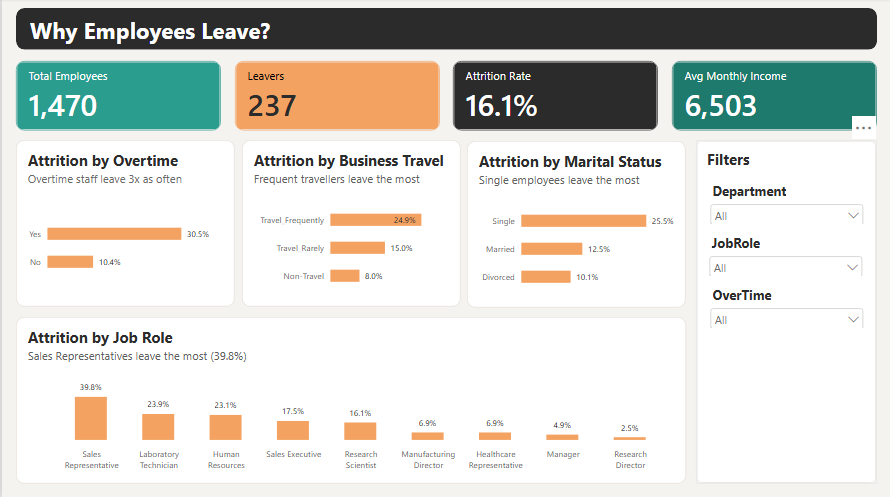

The dashboard page shown, as its layout file describes it:
{"tool":"powerbi","page":{"name":"Drivers","canvas":[1280,720],"ordinal":1},"visuals":[{"type":"shape","box":[20,15,1240,60],"z":0},{"type":"cardVisual","fields":{"Data":["Employees.Total Employees Display"]},"box":[20.2,90,295,100],"z":1000},{"type":"cardVisual","fields":{"Data":["Employees.Leavers"]},"box":[335,90,295,100],"z":2000},{"type":"cardVisual","fields":{"Data":["Employees.Avg Monthly Income"]},"box":[965,90,295,100],"z":3000},{"type":"cardVisual","fields":{"Data":["Employees.Attrition Rate"]},"box":[650,90,295,100],"z":4000},{"type":"shape","box":[1000,205,260,495],"z":5000},{"type":"slicer","fields":{"Values":["Employees.Department"]},"box":[1015,265,230,60],"z":6000},{"type":"slicer","fields":{"Values":["Employees.JobRole"]},"box":[1014.1,340,230,60],"z":7000},{"type":"slicer","fields":{"Values":["Employees.OverTime"]},"box":[1015.9,415,230,60],"z":8000},{"type":"clusteredBarChart","title":"Attrition by Overtime","fields":{"Category":["Employees.OverTime"],"Y":["Employees.Attrition Rate"]},"box":[20,205,315,240],"z":9000},{"type":"clusteredBarChart","title":"Attrition by Business Travel","fields":{"Category":["Employees.BusinessTravel"],"Y":["Employees.Attrition Rate"]},"box":[345,205,315,240],"z":10000},{"type":"clusteredBarChart","title":"Attrition by Marital Status","fields":{"Category":["Employees.MaritalStatus"],"Y":["Employees.Attrition Rate"]},"box":[670,206,315,240],"z":11000},{"type":"clusteredColumnChart","title":"Attrition by Job Role","fields":{"Category":["Employees.JobRole"],"Y":["Employees.Attrition Rate"]},"box":[20,460,965,240],"z":12000}]}

Visuals, with their boxes in screenshot pixels (x1, y1, x2, y2), scaled from the page's 1280x720 canvas onto the 890x497 screenshot:
shape: [x1=14, y1=10, x2=876, y2=52]
cardVisual - Employees.Total Employees Display: [x1=14, y1=62, x2=219, y2=131]
cardVisual - Employees.Leavers: [x1=233, y1=62, x2=438, y2=131]
cardVisual - Employees.Avg Monthly Income: [x1=671, y1=62, x2=876, y2=131]
cardVisual - Employees.Attrition Rate: [x1=452, y1=62, x2=657, y2=131]
shape: [x1=695, y1=142, x2=876, y2=483]
slicer - Employees.Department: [x1=706, y1=183, x2=866, y2=224]
slicer - Employees.JobRole: [x1=705, y1=235, x2=865, y2=276]
slicer - Employees.OverTime: [x1=706, y1=286, x2=866, y2=328]
"Attrition by Overtime" clusteredBarChart: [x1=14, y1=142, x2=233, y2=307]
"Attrition by Business Travel" clusteredBarChart: [x1=240, y1=142, x2=459, y2=307]
"Attrition by Marital Status" clusteredBarChart: [x1=466, y1=142, x2=685, y2=308]
"Attrition by Job Role" clusteredColumnChart: [x1=14, y1=318, x2=685, y2=483]
